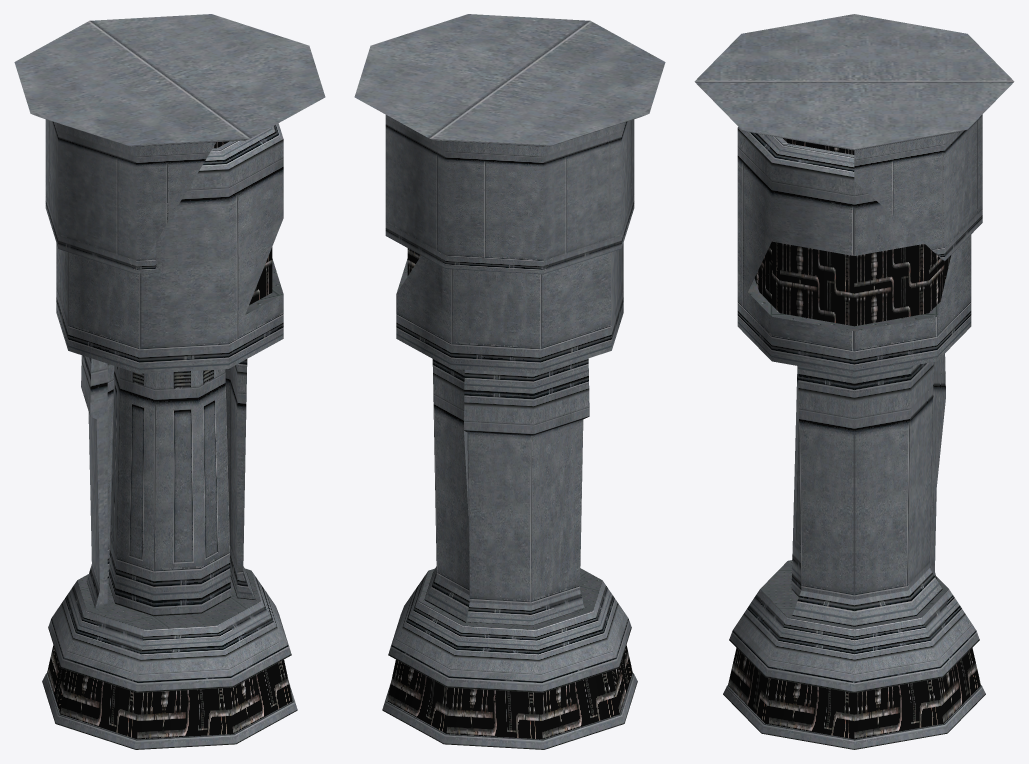
File: poi_all_impl_bunker_pillar_s03_l2.fbx
3 renders of one model, left to right at view 1: azimuth 30°, elevation 25°; view 2: azimuth 150°, elevation 25°; view 3: azimuth 270°, elevation 25°, orthographic.
Visible parts, largest first — view 1: mesh_node; view 2: mesh_node; view 3: mesh_node.
Boxes of the visible parts, left/top/right/bottom form: mesh_node: left=14, top=14, right=325, bottom=749; mesh_node: left=354, top=14, right=665, bottom=749; mesh_node: left=694, top=14, right=1014, bottom=749.
Bounding box in the file's own units: 2.51 × 5.3 × 2.51.
